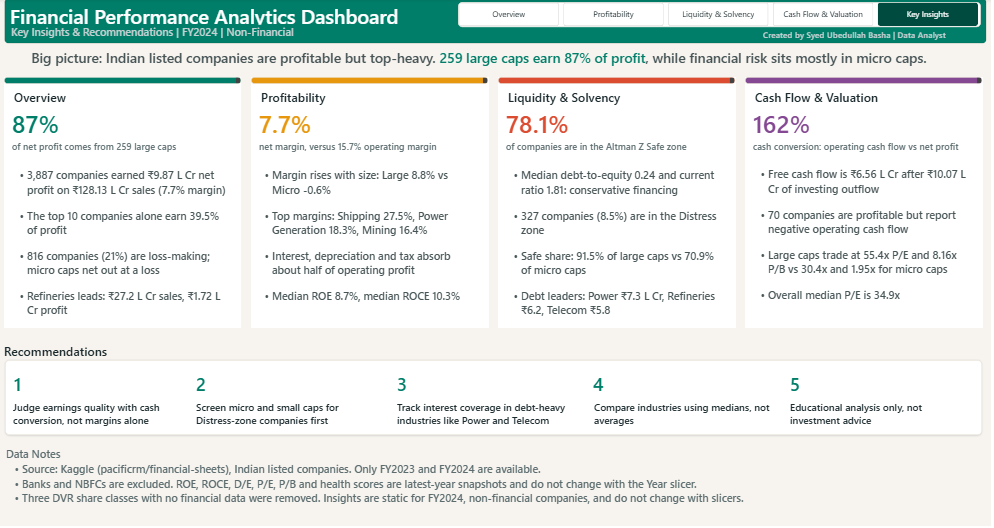

The dashboard page shown, as its layout file describes it:
{"tool":"powerbi","page":{"name":"Key Insights","canvas":[1750,1100],"ordinal":4},"visuals":[{"type":"shape","box":[24.4,0,1716.3,80.3],"z":0},{"type":"textbox","title":"Overview","box":[24.5,138.2,414.5,438.4],"z":0,"group":"g4"},{"type":"textbox","title":"Overview","box":[456.6,138.2,414.5,438.4],"z":0,"group":"g2"},{"type":"textbox","title":"Overview","box":[887.6,138.2,414.5,438.4],"z":0,"group":"g3"},{"type":"textbox","title":"Overview","box":[1318.6,138.2,414.5,438.4],"z":0,"group":"g1"},{"type":"textbox","title":"Financial Performance Analytics Dashboard","box":[34.9,8.7,707,38.4],"z":1000},{"type":"textbox","title":"87%","box":[37.4,189.8,375.8,55.3],"z":1000,"group":"g4"},{"type":"textbox","title":"7.7%","box":[469.5,189.8,375.8,55.3],"z":1000,"group":"g2"},{"type":"textbox","title":"78.1%","box":[900.5,189.8,375.8,55.3],"z":1000,"group":"g3"},{"type":"textbox","title":"162%","box":[1331.5,189.8,375.8,55.3],"z":1000,"group":"g1"},{"type":"textbox","title":"Key Insights & Recommendations | FY2024 | Non-Financial Companies","box":[36.7,47.1,532,24.4],"z":2000},{"type":"textbox","box":[23.9,138.2,414,12],"z":2000,"group":"g4"},{"type":"textbox","box":[456,138.2,414,12],"z":2000,"group":"g2"},{"type":"textbox","box":[887,138.2,414,12],"z":2000,"group":"g3"},{"type":"textbox","box":[1318,138.2,414,12],"z":2000,"group":"g1"},{"type":"pageNavigator","box":[817.1,7,913.2,43.7],"z":3000},{"type":"textbox","title":"Overview","box":[41.1,158.5,375.8,29.5],"z":3000,"group":"g4"},{"type":"textbox","title":"Profitability","box":[473.2,158.5,375.8,29.5],"z":3000,"group":"g2"},{"type":"textbox","title":"Liquidity & Solvency","box":[904.2,158.5,375.8,29.5],"z":3000,"group":"g3"},{"type":"textbox","title":"Cash Flow & Valuation","box":[1335.2,158.5,375.8,29.5],"z":3000,"group":"g1"},{"type":"textbox","title":"Created by Syed Ubedullah Basha | Data Analyst","box":[1350.3,53.4,350,24],"z":4000},{"type":"textbox","title":"of net profit comes from 259 large caps","box":[37.4,248.7,375.8,23.9],"z":4000,"group":"g4"},{"type":"textbox","title":"net margin, versus 15.7% operating margin","box":[469.5,248.7,375.8,23.9],"z":4000,"group":"g2"},{"type":"textbox","title":"of companies are in the Altman Z Safe zone","box":[900.5,248.7,375.8,23.9],"z":4000,"group":"g3"},{"type":"textbox","title":"cash conversion: operating cash flow vs net profit","box":[1331.5,248.7,375.8,23.9],"z":4000,"group":"g1"},{"type":"textbox","box":[1330.9,294.5,379.5,268.9],"z":5000,"group":"g1"},{"type":"textbox","box":[36.9,296.3,379.5,267.1],"z":5000,"group":"g4"},{"type":"textbox","box":[465.2,296.3,383.2,274.5],"z":5000,"group":"g2"},{"type":"textbox","box":[899.9,296.3,379.5,272.6],"z":5000,"group":"g3"},{"type":"textbox","title":"Recommendations","box":[25,602,600,30],"z":5000},{"type":"textbox","title":"Big picture: Indian listed companies are profitable but top-heavy. 259 large caps earn 87% of profit, while financial risk sits mostly in micro caps.","box":[27.6,86.6,1709.5,40],"z":6000},{"type":"group","id":"g1","title":"Group 1","box":[1318,138.2,415.1,438.4],"z":7000},{"type":"group","id":"g2","title":"Group 1","box":[456,138.2,415.1,438.4],"z":8000},{"type":"group","id":"g3","title":"Group 1","box":[887,138.2,415.1,438.4],"z":9000},{"type":"group","id":"g4","title":"Group 1","box":[23.9,138.2,415.1,438.4],"z":10000},{"type":"textbox","title":"Data Notes","box":[28.7,783.8,300,24],"z":21000},{"type":"textbox","box":[28.7,809.8,1700,110],"z":22000},{"type":"textbox","box":[25.8,631.8,1705.8,130.8],"z":22001},{"type":"textbox","title":"1","box":[41.9,651.3,80,40],"z":22002},{"type":"textbox","title":"Judge earnings quality with cash conversion, not margins alone","box":[41,701.8,310.8,52.4],"z":22003},{"type":"textbox","title":"2","box":[359.2,652.1,80,40],"z":22004},{"type":"textbox","title":"Screen micro and small caps for Distress-zone companies first","box":[359.2,701.8,310.8,52.4],"z":22005},{"type":"textbox","title":"3","box":[711.1,652.1,80,40],"z":22006},{"type":"textbox","title":"Track interest coverage in debt-heavy industries like Power and Telecom","box":[711,701.4,310.8,52.4],"z":22007},{"type":"textbox","title":"4","box":[1053.7,652.1,80,40],"z":22008},{"type":"textbox","title":"Compare industries using medians, not averages","box":[1054,701.4,310.8,52.4],"z":22009},{"type":"textbox","title":"5","box":[1396.3,652.1,80,40],"z":22010},{"type":"textbox","title":"Educational analysis only, not investment advice","box":[1396.3,701.8,310.8,52.4],"z":22011}]}

Visuals, with their boxes on the page's 1750x1100 design canvas (x1, y1, x2, y2). These are canvas units, not pixel positions in the 994x528 screenshot, which may show the page scaled, cropped or inside an application window:
shape: <box>24,0,1741,80</box>
"Overview" textbox: <box>24,138,439,577</box>
"Overview" textbox: <box>457,138,871,577</box>
"Overview" textbox: <box>888,138,1302,577</box>
"Overview" textbox: <box>1319,138,1733,577</box>
"Financial Performance Analytics Dashboard" textbox: <box>35,9,742,47</box>
"87%" textbox: <box>37,190,413,245</box>
"7.7%" textbox: <box>470,190,845,245</box>
"78.1%" textbox: <box>900,190,1276,245</box>
"162%" textbox: <box>1332,190,1707,245</box>
"Key Insights & Recommendations | FY2024 | Non-Financial Companies" textbox: <box>37,47,569,72</box>
textbox: <box>24,138,438,150</box>
textbox: <box>456,138,870,150</box>
textbox: <box>887,138,1301,150</box>
textbox: <box>1318,138,1732,150</box>
pageNavigator: <box>817,7,1730,51</box>
"Overview" textbox: <box>41,158,417,188</box>
"Profitability" textbox: <box>473,158,849,188</box>
"Liquidity & Solvency" textbox: <box>904,158,1280,188</box>
"Cash Flow & Valuation" textbox: <box>1335,158,1711,188</box>
"Created by Syed Ubedullah Basha | Data Analyst" textbox: <box>1350,53,1700,77</box>
"of net profit comes from 259 large caps" textbox: <box>37,249,413,273</box>
"net margin, versus 15.7% operating margin" textbox: <box>470,249,845,273</box>
"of companies are in the Altman Z Safe zone" textbox: <box>900,249,1276,273</box>
"cash conversion: operating cash flow vs net profit" textbox: <box>1332,249,1707,273</box>
textbox: <box>1331,294,1710,563</box>
textbox: <box>37,296,416,563</box>
textbox: <box>465,296,848,571</box>
textbox: <box>900,296,1279,569</box>
"Recommendations" textbox: <box>25,602,625,632</box>
"Big picture: Indian listed companies are profitable but top-heavy. 259 large caps earn 87% of profit, while financial risk sits mostly in micro caps." textbox: <box>28,87,1737,127</box>
"Group 1" group: <box>1318,138,1733,577</box>
"Group 1" group: <box>456,138,871,577</box>
"Group 1" group: <box>887,138,1302,577</box>
"Group 1" group: <box>24,138,439,577</box>
"Data Notes" textbox: <box>29,784,329,808</box>
textbox: <box>29,810,1729,920</box>
textbox: <box>26,632,1732,763</box>
"1" textbox: <box>42,651,122,691</box>
"Judge earnings quality with cash conversion, not margins alone" textbox: <box>41,702,352,754</box>
"2" textbox: <box>359,652,439,692</box>
"Screen micro and small caps for Distress-zone companies first" textbox: <box>359,702,670,754</box>
"3" textbox: <box>711,652,791,692</box>
"Track interest coverage in debt-heavy industries like Power and Telecom" textbox: <box>711,701,1022,754</box>
"4" textbox: <box>1054,652,1134,692</box>
"Compare industries using medians, not averages" textbox: <box>1054,701,1365,754</box>
"5" textbox: <box>1396,652,1476,692</box>
"Educational analysis only, not investment advice" textbox: <box>1396,702,1707,754</box>
